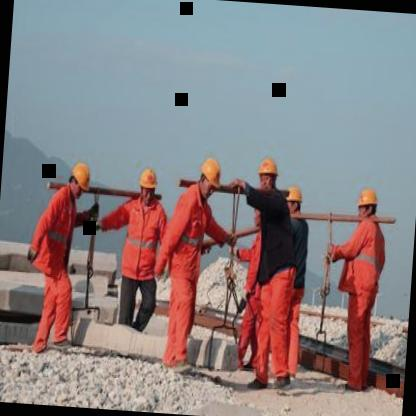helmet: (252, 153, 282, 200), (352, 186, 382, 230), (195, 154, 223, 198), (134, 165, 160, 209), (66, 160, 94, 198), (284, 182, 306, 218)
